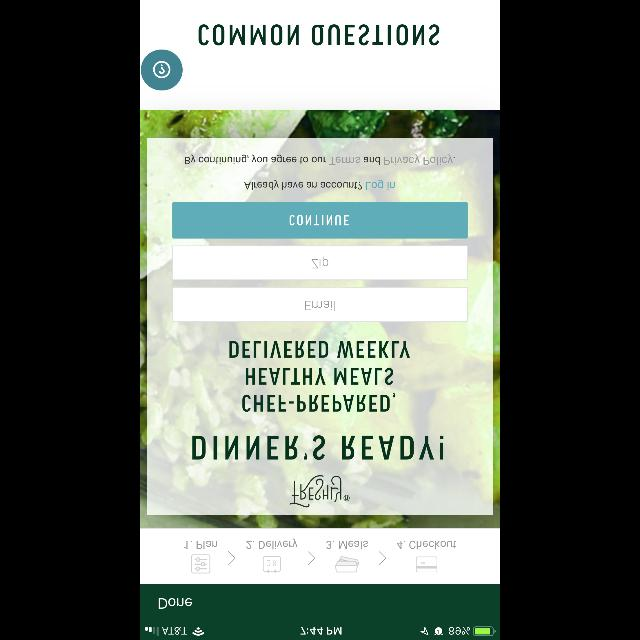icon: (141, 50, 183, 90), (417, 556, 438, 572), (192, 554, 210, 572), (263, 556, 281, 572), (228, 551, 236, 565), (308, 551, 316, 565), (378, 551, 386, 565)
image: (290, 474, 350, 508), (335, 556, 359, 572)
input: (172, 286, 468, 322), (172, 246, 468, 280)
text: (230, 341, 410, 412), (192, 435, 444, 459), (198, 24, 440, 46), (185, 154, 455, 166), (244, 180, 396, 190), (246, 538, 298, 550), (398, 541, 457, 549), (326, 541, 368, 549), (185, 540, 218, 550), (160, 598, 192, 608), (305, 301, 335, 311), (312, 257, 328, 269)
textbutton: (172, 202, 468, 238)
uppertaskbar: (140, 626, 500, 640)
